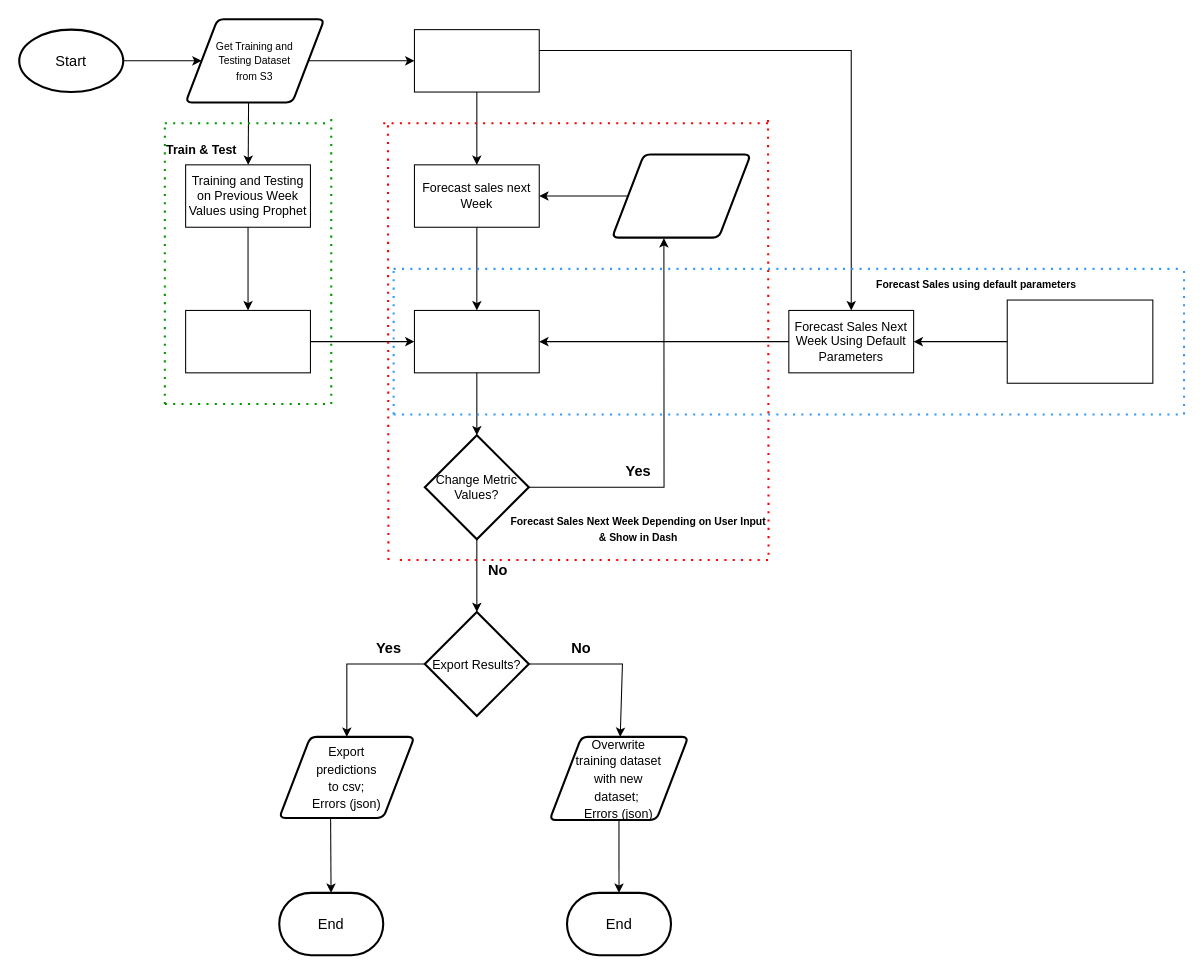
The diagram is 1203 pixels wide and 973 high, and some of its shapes have lost their labels. The shapes that lost their labels are listed below. From the top down, each one's centre as x and y in pixels, then its label:
At (x=476, y=60): "Combine Training and Testing Dataset".
At (x=680, y=195): "User Selects Metric Values".
At (x=247, y=341): "Get Error Values".
At (x=476, y=341): "Plot to Dash Chart".
At (x=1079, y=341): "Predict AOV untuk mendapatkan parameter default menggunakan Prophet".
